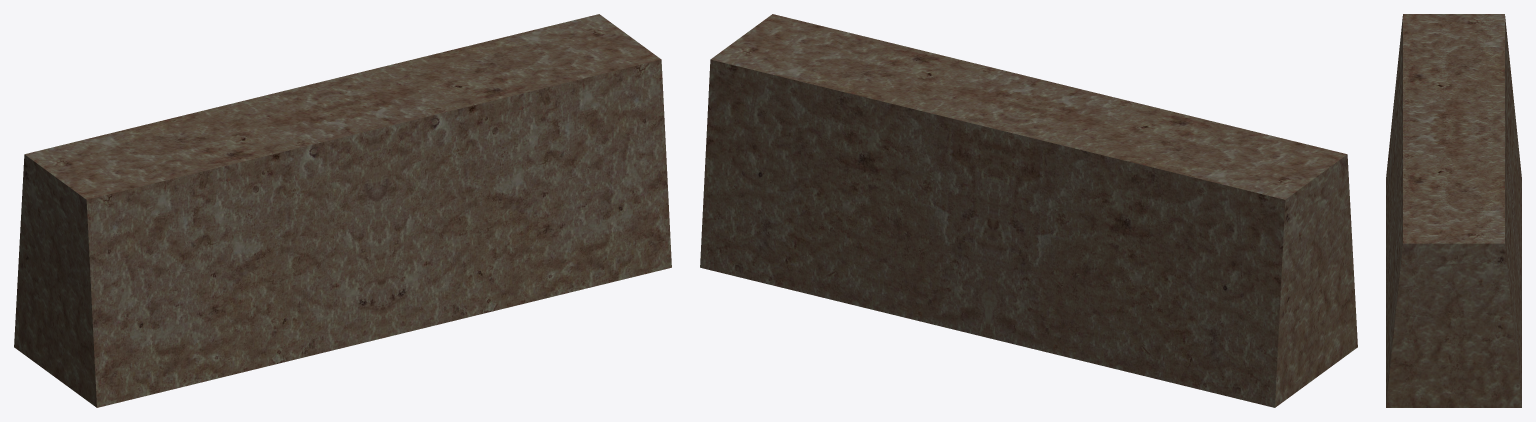
The model's file is TarBerm_01.fbx.
The picture shows the model from 3 angles, left to right: view 1: azimuth 30°, elevation 25°; view 2: azimuth 150°, elevation 25°; view 3: azimuth 270°, elevation 25°; orthographic projection. The views are drawn at different scales.
Visible parts, largest first — view 1: Cube; view 2: Cube; view 3: Cube.
Part boxes in pixels (x1,y1,x2,y2): Cube: (14,14,671,407); Cube: (700,14,1357,407); Cube: (1386,14,1521,407).
Bounding box in the file's own units: 600 × 200 × 150.
